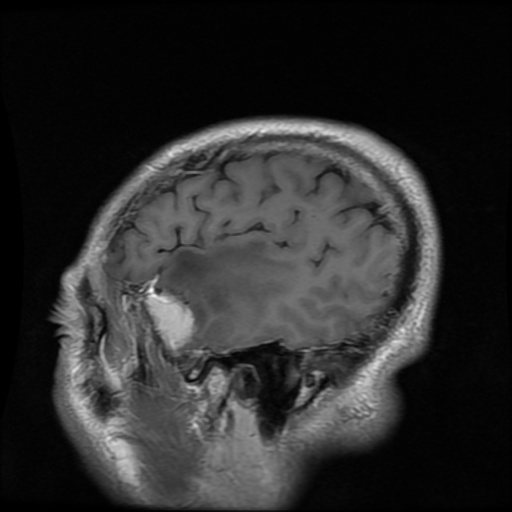meningioma: (146, 291, 195, 353)
